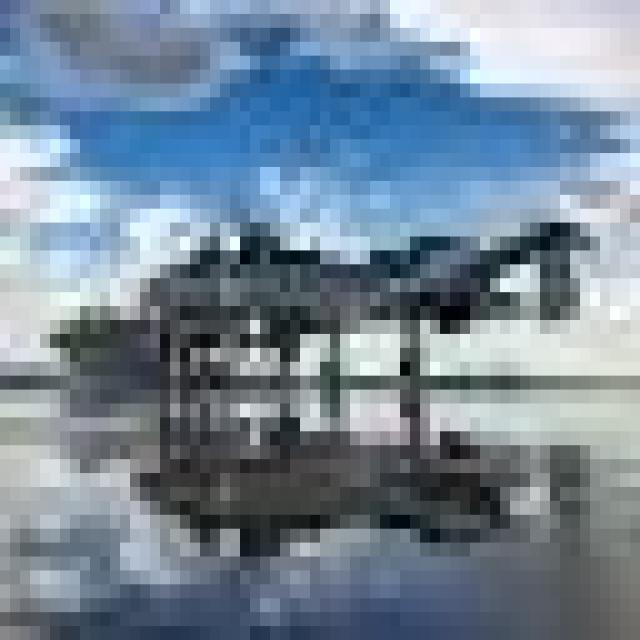A10: (34, 126, 604, 586)
